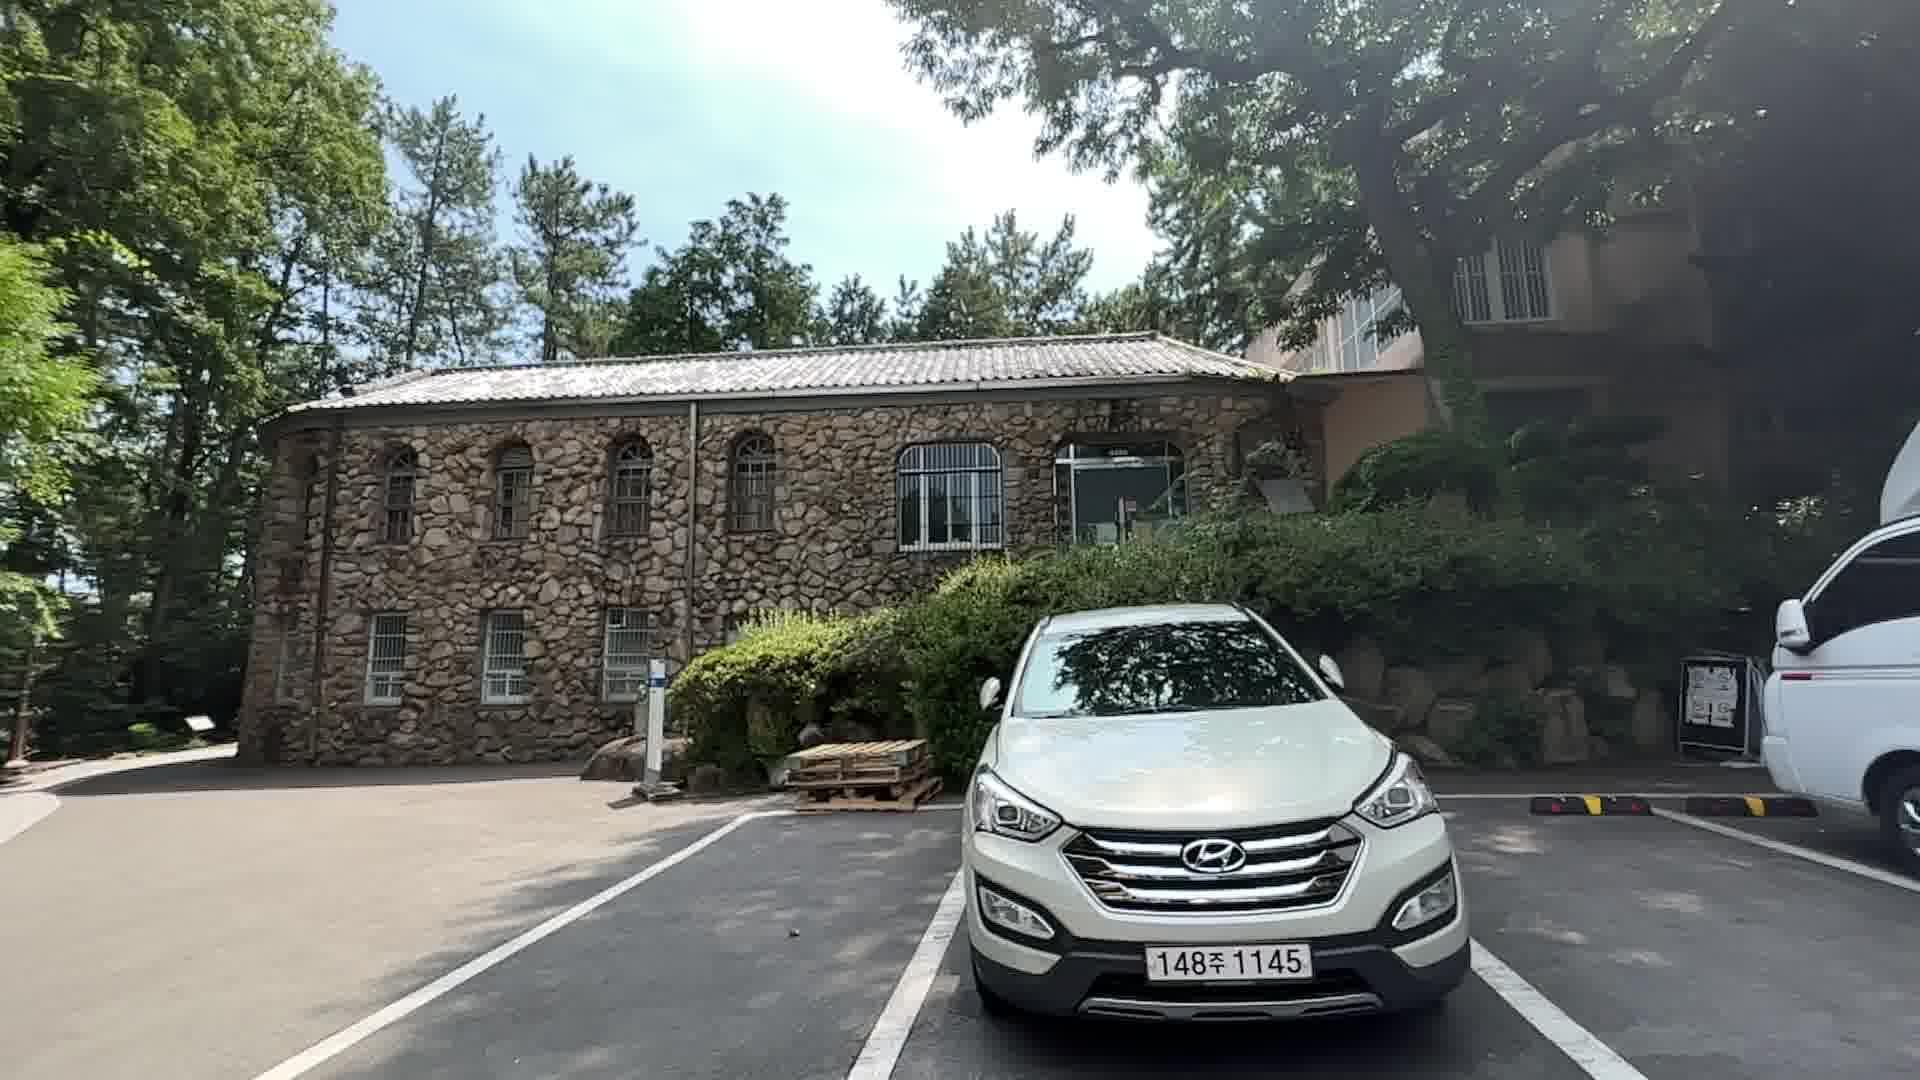building: (251, 273, 1251, 550)
